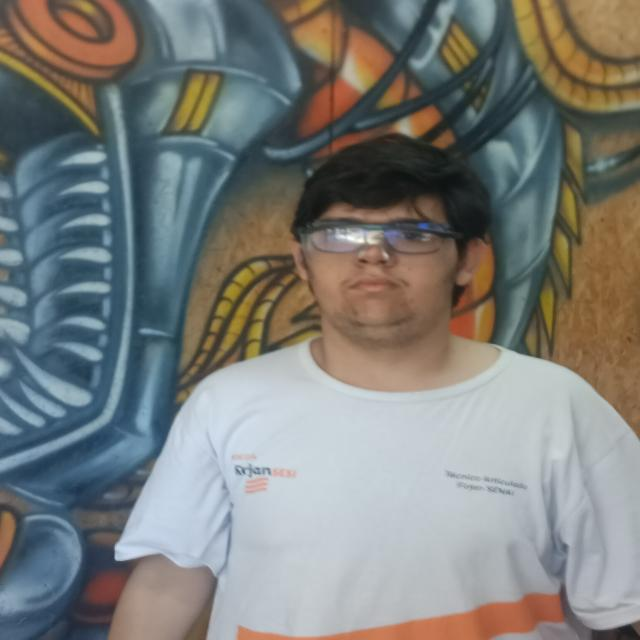oculos-epi: (292, 221, 465, 265)
